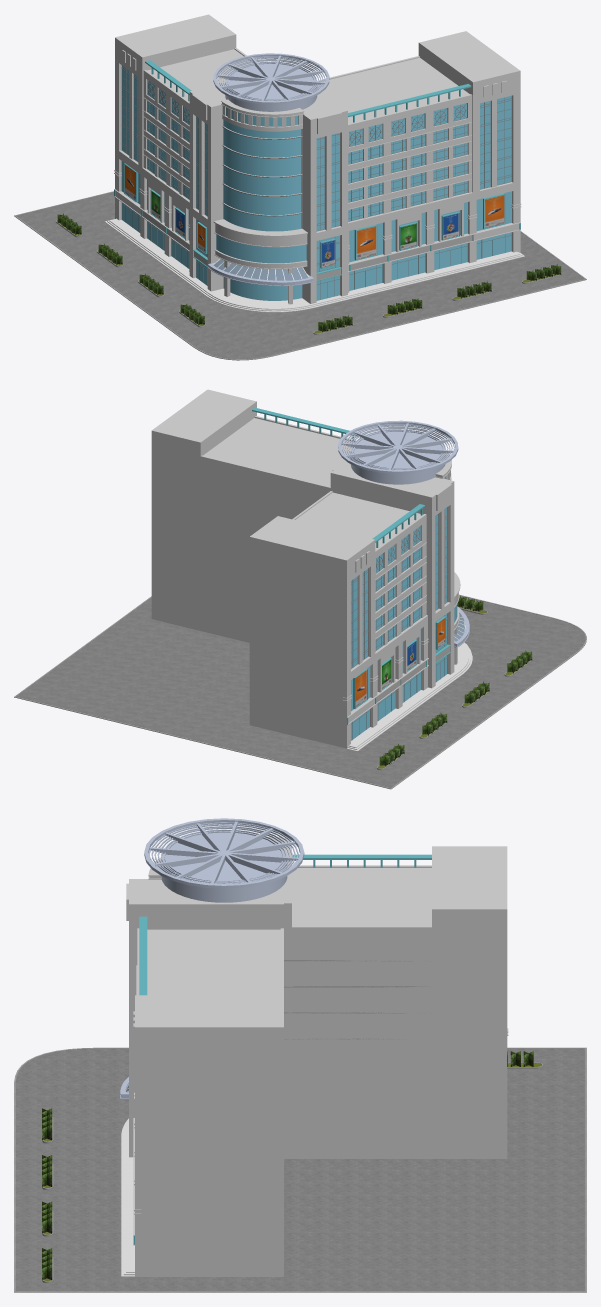
The model's file is BanGongLou.gltf.
3 renders of one model, top to bottom at view 1: azimuth 30°, elevation 25°; view 2: azimuth 150°, elevation 25°; view 3: azimuth 270°, elevation 25°, orthographic. The views are drawn at different scales.
Visible parts, largest first — view 1: Lou1; view 2: Lou1; view 3: Lou1.
Boxes of the visible parts, box(x1,y1,x2,y2) form: Lou1: box(14, 14, 586, 360); Lou1: box(14, 389, 586, 789); Lou1: box(14, 818, 586, 1292).
Bounding box in the file's own units: 2.8 × 1.5 × 2.77.
15 materials, 6 textured.
